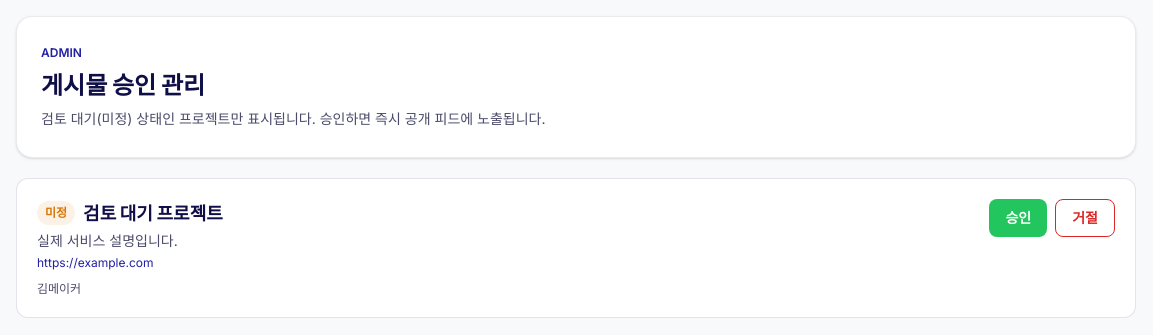
AdminApprovalView › approves a project and removes it from the list
Click the button "승인" at point(1018, 218), box [990,199,1047,237]
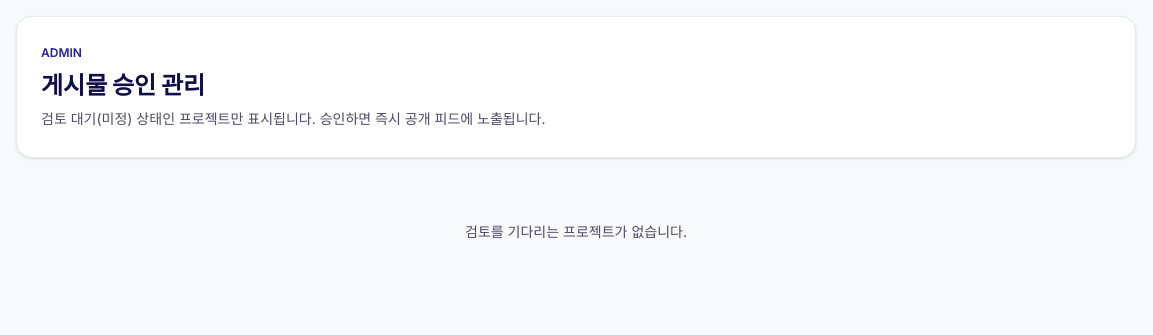
Result: the text "검토 대기 프로젝트" is gone
